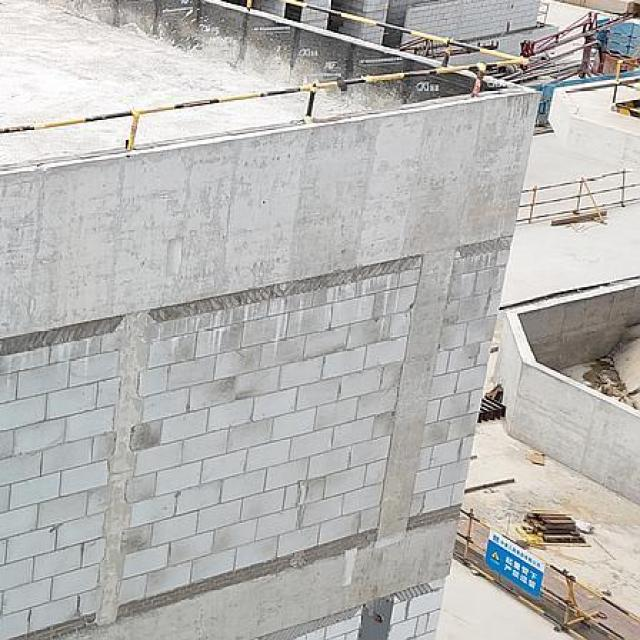Guardrail: (0, 0, 528, 154), (611, 56, 640, 115)
